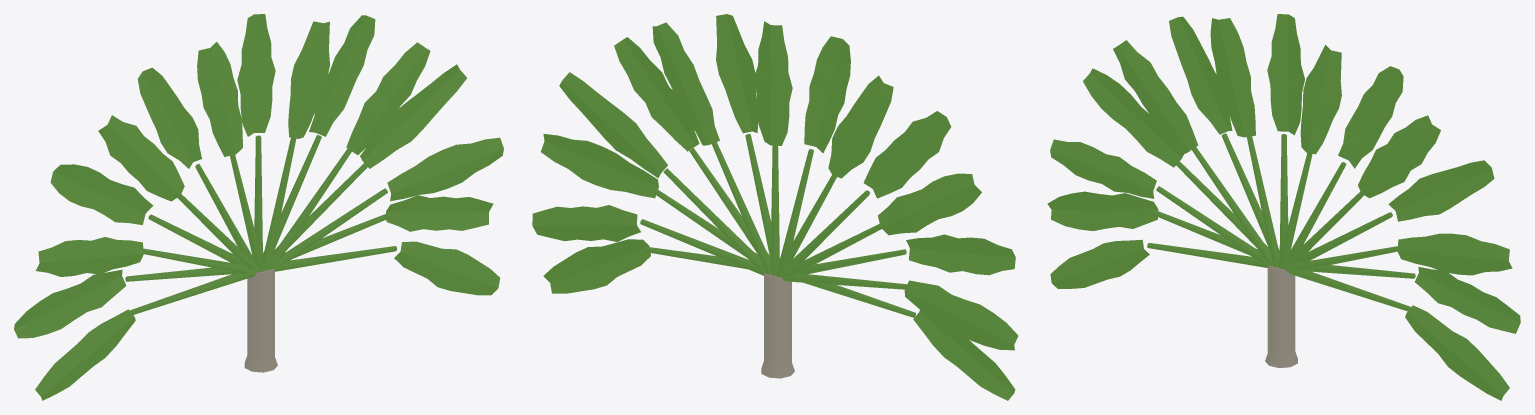
Rendered from Blender_TravelersPalm_1.glb.
3 renders of one model, left to right at view 1: azimuth 30°, elevation 25°; view 2: azimuth 150°, elevation 25°; view 3: azimuth 330°, elevation 25°, orthographic. The views are drawn at different scales.
Parts seen in each view (by area): view 1: Blender_TravelersPalm_1; view 2: Blender_TravelersPalm_1; view 3: Blender_TravelersPalm_1.
Part boxes in pixels (<box>): Blender_TravelersPalm_1: <box>14,14,503,400</box>; Blender_TravelersPalm_1: <box>532,14,1018,400</box>; Blender_TravelersPalm_1: <box>1047,14,1520,400</box>.
Size of the model in its own units: 12.36 by 8.53 by 0.7448.
